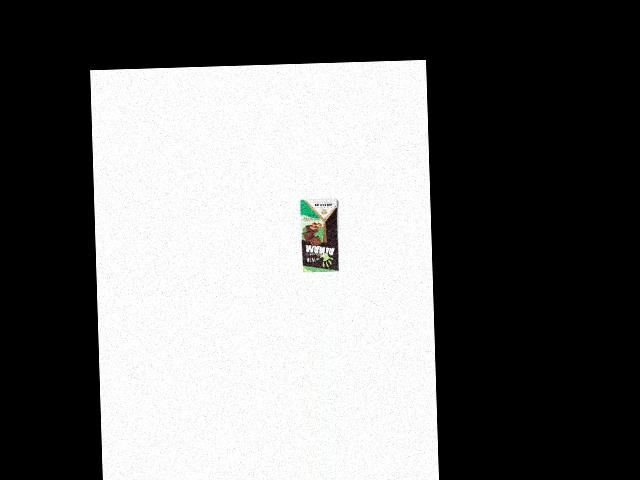chocolate: (298, 197, 341, 273)
